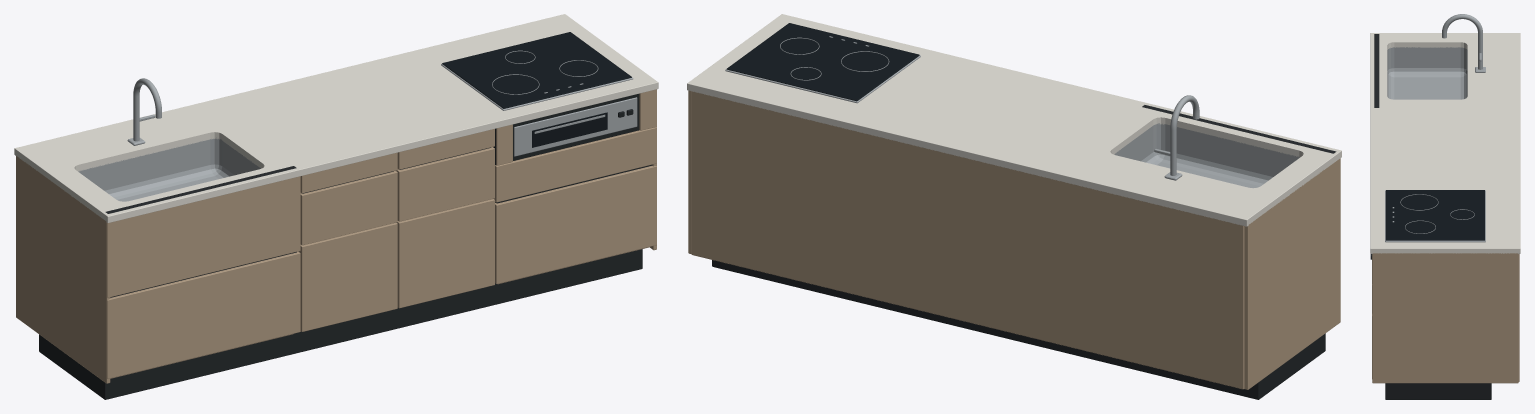
Rendered from original-kitchen-p2550-750-no-dw.glb.
The picture shows the model from 3 angles, left to right: view 1: azimuth 30°, elevation 25°; view 2: azimuth 150°, elevation 25°; view 3: azimuth 270°, elevation 25°; orthographic projection. The views are drawn at different scales.
Parts seen in each view (by area): view 1: original-kitchen-p2550-750-no-dw; view 2: original-kitchen-p2550-750-no-dw; view 3: original-kitchen-p2550-750-no-dw.
Boxes of the visible parts, x1,y1,x2,y2 form: original-kitchen-p2550-750-no-dw: (14,14,658,399); original-kitchen-p2550-750-no-dw: (687,14,1341,399); original-kitchen-p2550-750-no-dw: (1370,14,1520,399).
Size of the model in its own units: 2.55 by 1.16 by 0.75.
